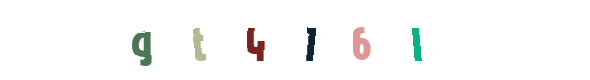1: (256, 0, 336, 80)
4: (240, 0, 320, 80)
6: (271, 0, 351, 80)
G: (113, 0, 193, 80)
L: (376, 0, 456, 80)
T: (214, 0, 294, 80)
